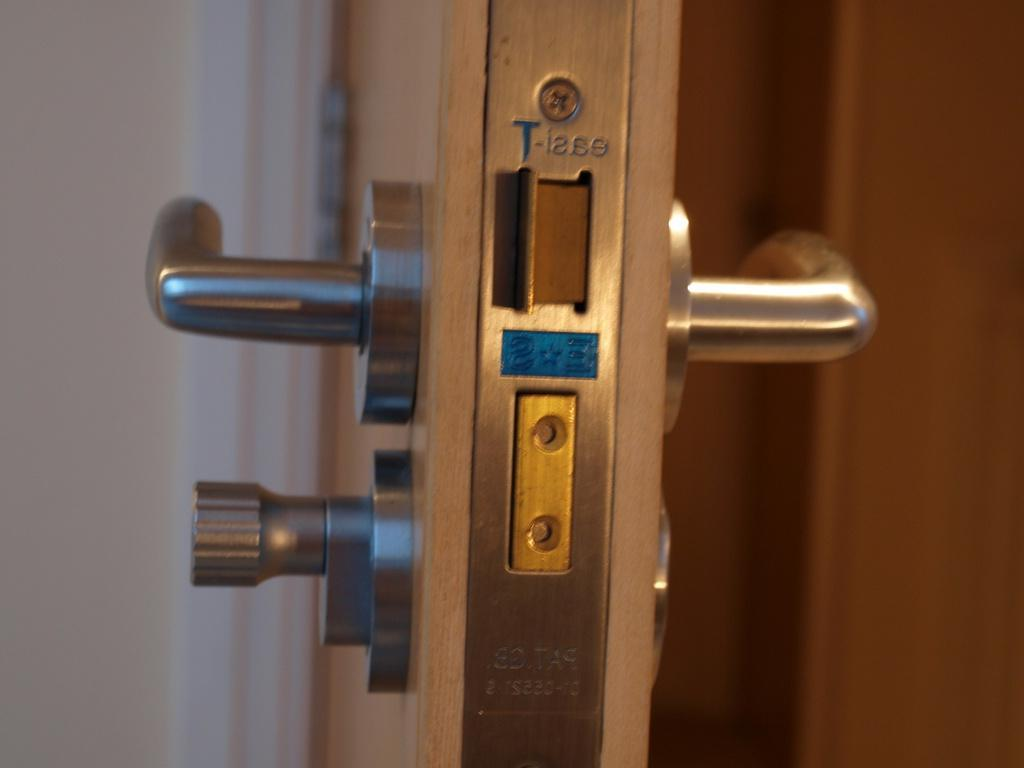handle: (142, 204, 388, 358), (678, 216, 874, 380)
